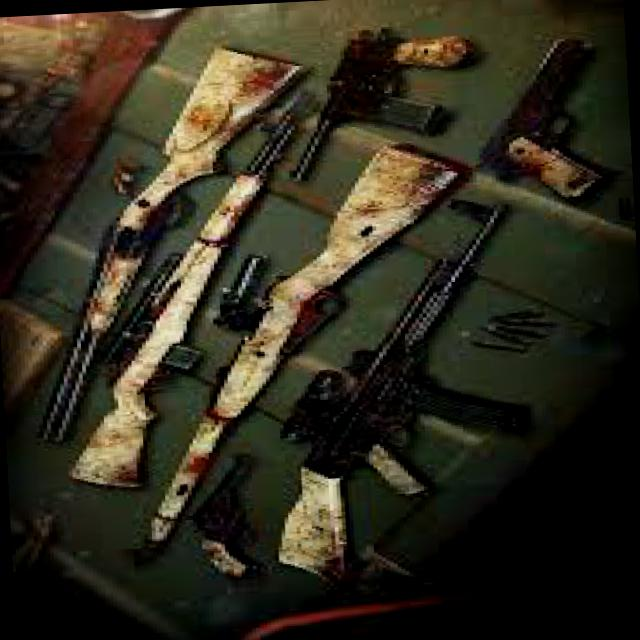handgun: (453, 15, 633, 207)
long weapon: (249, 213, 639, 595), (113, 161, 434, 556), (17, 41, 300, 451), (44, 96, 322, 494), (282, 14, 496, 190), (164, 458, 278, 592)
